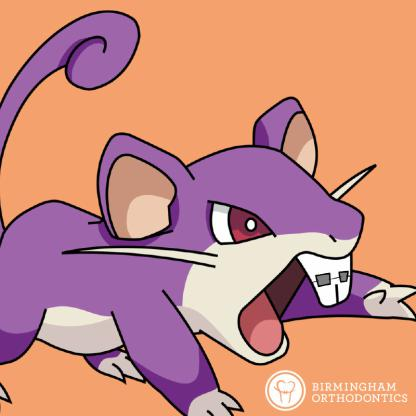Rattata: (1, 3, 416, 416)
